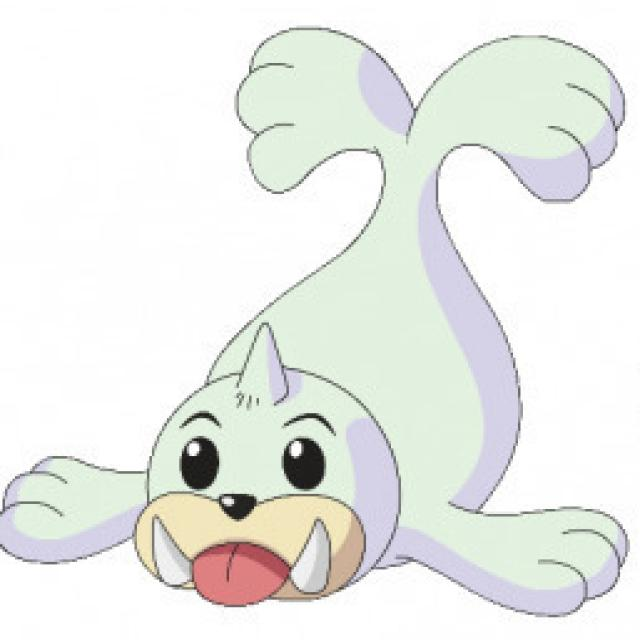Seel: (0, 6, 636, 611)
